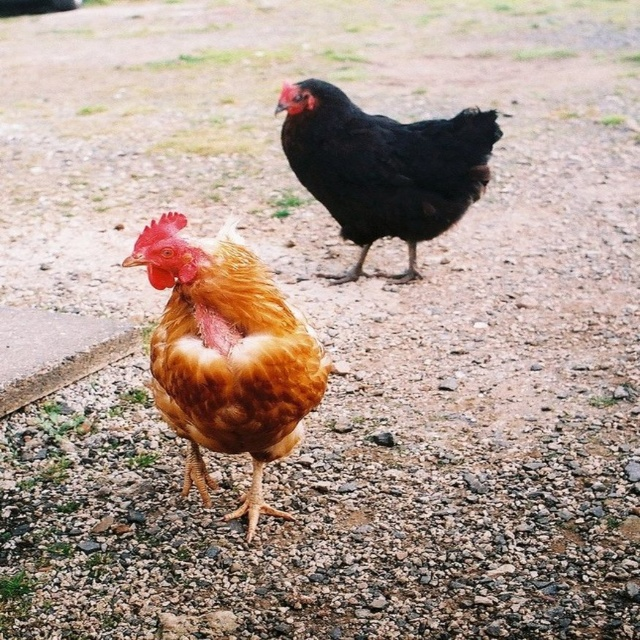Chicken: (122, 211, 333, 544), (275, 78, 504, 287)
